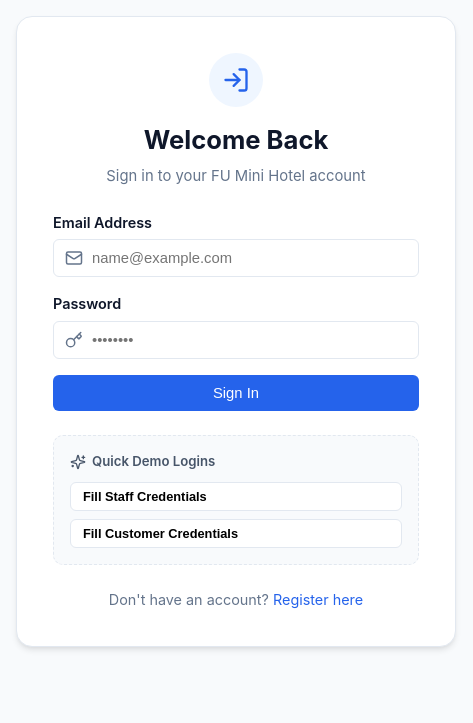
Test case: LoginPage Component › renders login form with inputs and validation messages on empty submit
Expected: the heading "Welcome Back" is shown, left=144, top=124, right=328, bottom=155
Expected: the field labelled "Email Address" is shown, left=53, top=239, right=419, bottom=277
Click the button "Sign In" at point(236, 393), box left=53, top=375, right=419, bottom=411
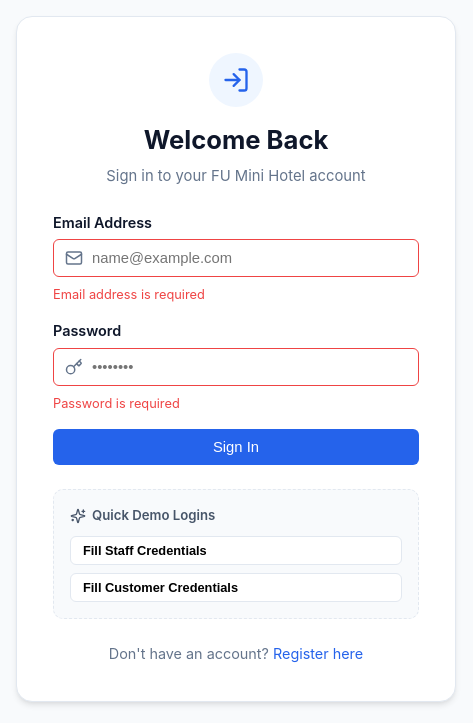
Result: the text "Email address is required" is shown at left=53, top=287, right=205, bottom=302
Result: the text "Password is required" is shown at left=53, top=396, right=180, bottom=411
